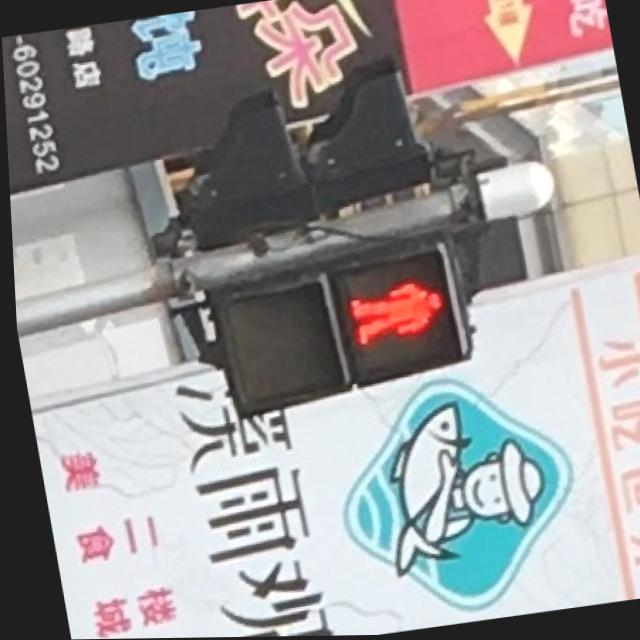red_light: (332, 248, 462, 380)
